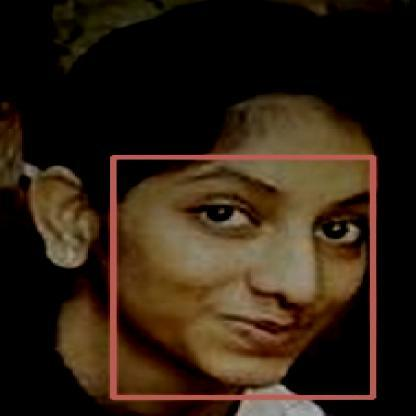without_mask: (112, 157, 372, 397)
